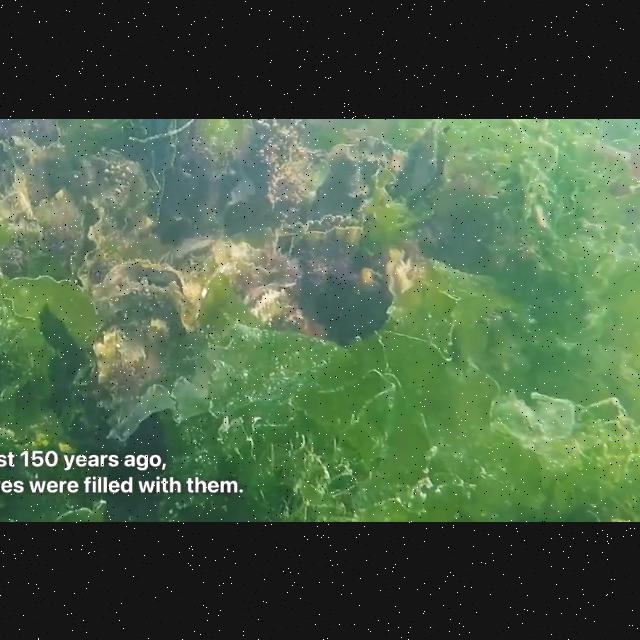Oyster-Closed: (314, 132, 410, 218), (71, 141, 153, 241), (244, 118, 312, 216)
Oyster-Open: (91, 252, 190, 382), (191, 231, 301, 303), (14, 139, 84, 249), (69, 186, 133, 282), (392, 118, 452, 215), (273, 206, 365, 254), (242, 275, 308, 327), (1, 192, 42, 238), (383, 241, 413, 295), (353, 264, 387, 294)
